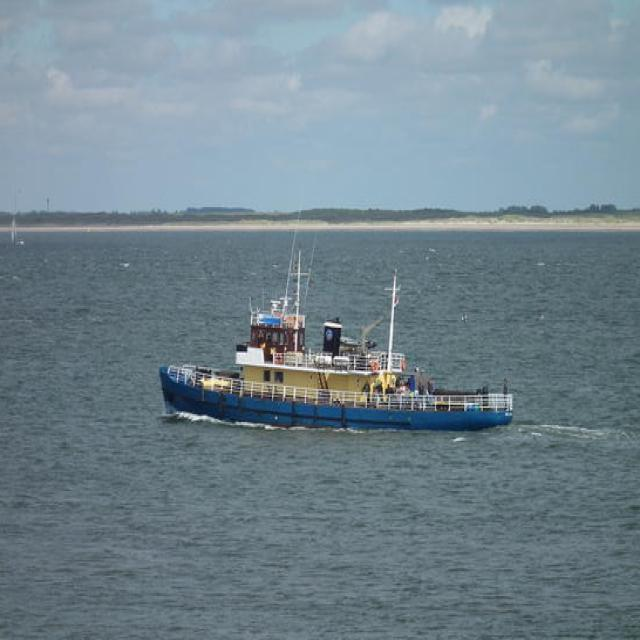fishing boat: (158, 289, 516, 431)
